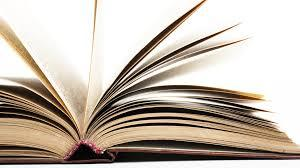Paper: (1, 4, 300, 168)
